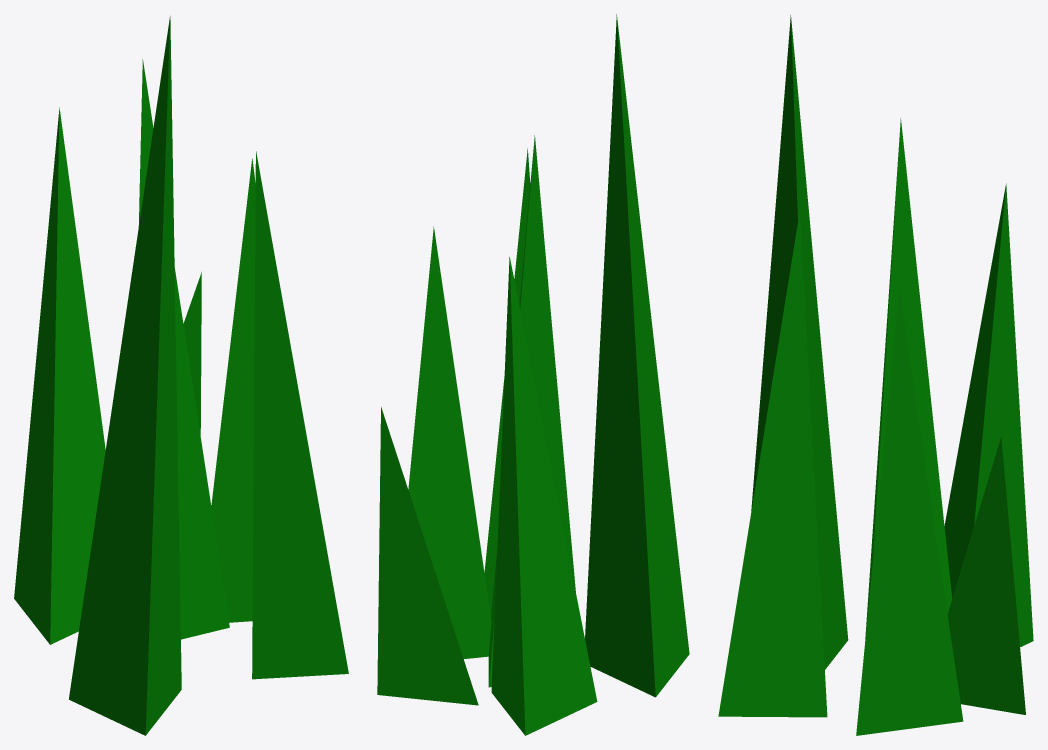
Rendered from grass02.glb.
The picture shows the model from 3 angles, left to right: view 1: azimuth 30°, elevation 25°; view 2: azimuth 150°, elevation 25°; view 3: azimuth 270°, elevation 25°; orthographic projection. The views are drawn at different scales.
Parts seen in each view (by area): view 1: Cone; view 2: Cone; view 3: Cone.
Boxes of the visible parts, box(x1,y1,x2,y2) form: Cone: box(14, 16, 348, 735); Cone: box(377, 14, 689, 735); Cone: box(718, 15, 1033, 735).
Bounding box in the file's own units: 4.24 × 11.43 × 4.95.
